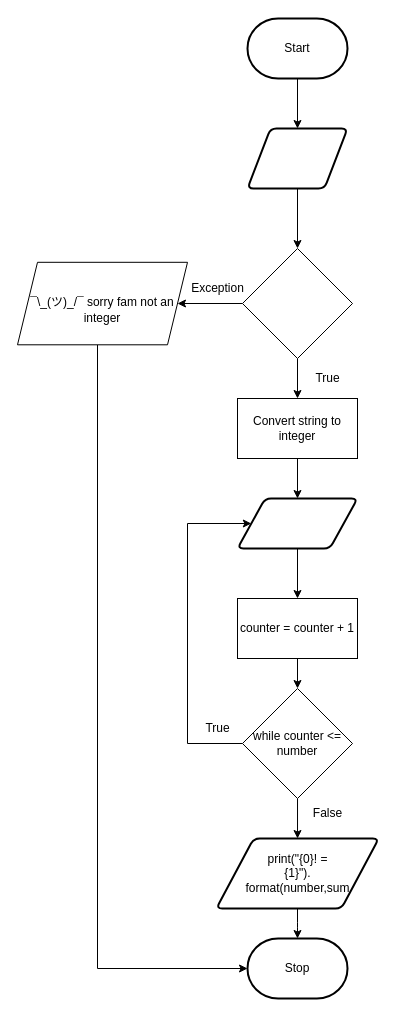
Some shapes in this 397 by 1016 pixel diagram are drawn without their labels. Here are the shapes that lost their labels. From the top down, the box of each, then its label:
(246, 127, 348, 189): Get number
(242, 248, 352, 358): try
(236, 497, 358, 549): sum = sum*counter
